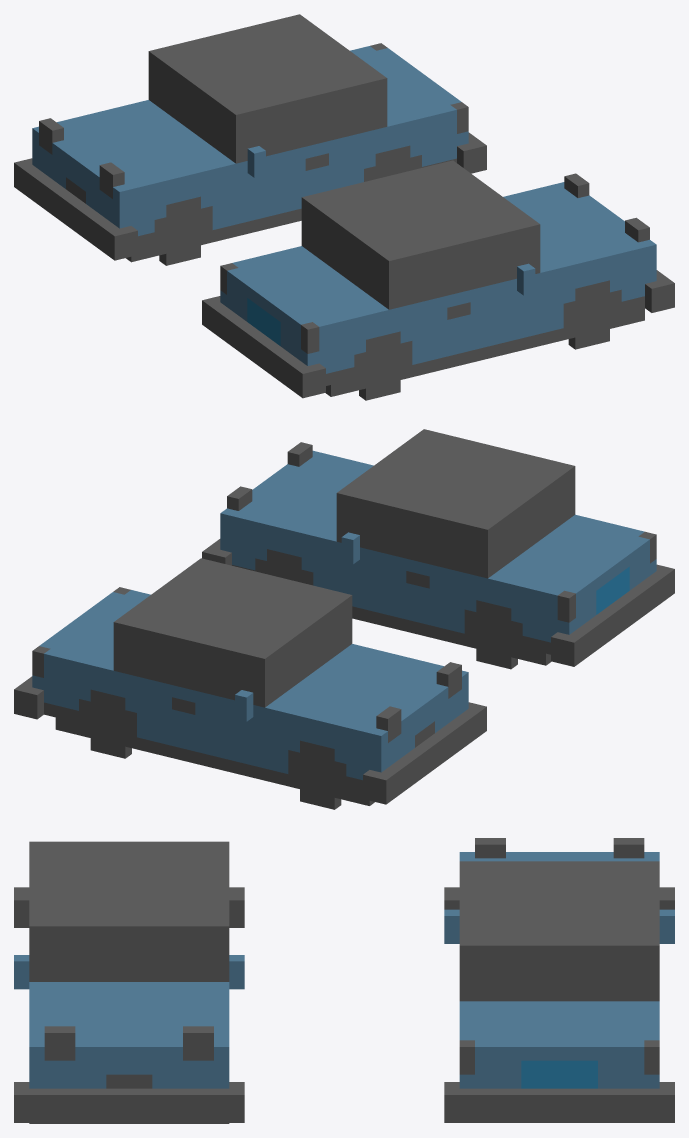
The model's file is scene_car.obj.
The picture shows the model from 3 angles, top to bottom: view 1: azimuth 30°, elevation 25°; view 2: azimuth 150°, elevation 25°; view 3: azimuth 270°, elevation 25°; orthographic projection. The views are drawn at different scales.
Size of the model in its own units: 32 by 11 by 43.
